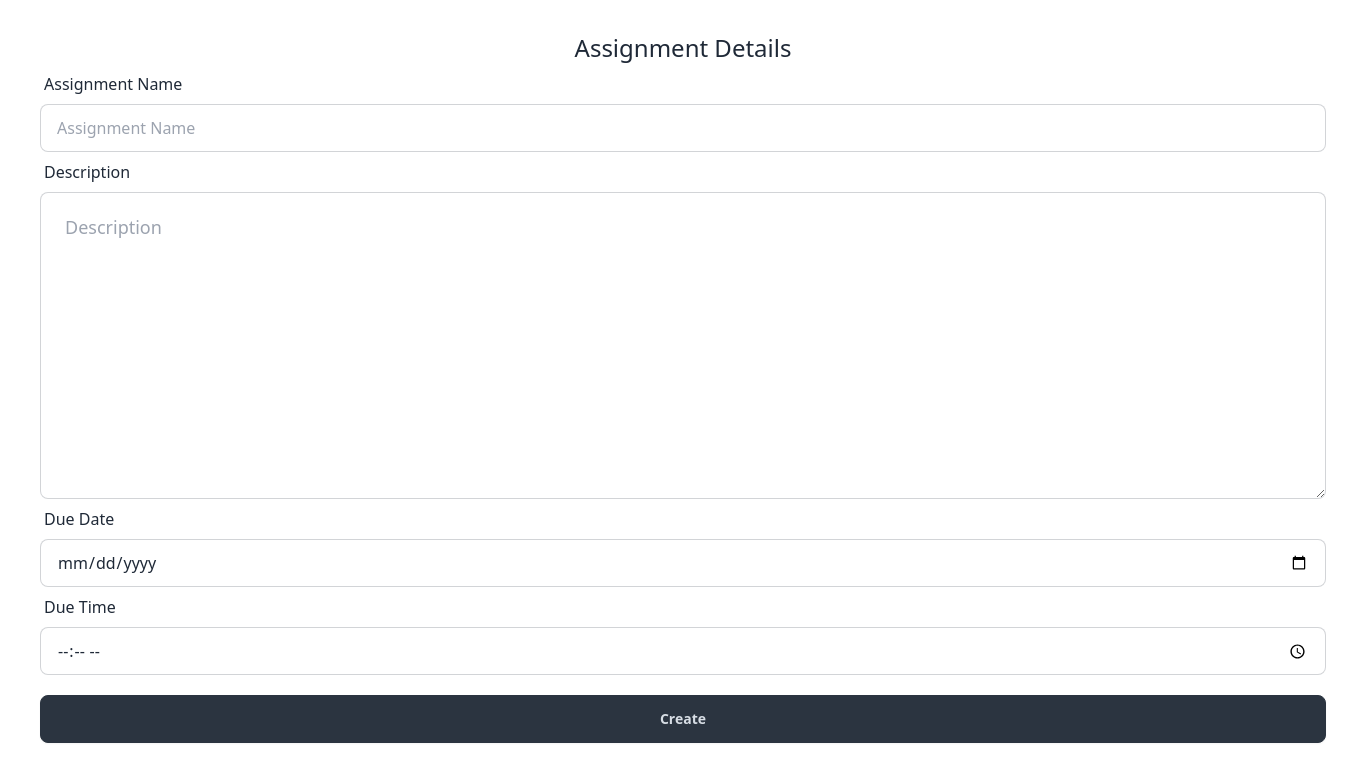
CreateAssignment Component › handles form submission failure and displays error
Type "Test Assignment" into the field labelled "Assignment Name" at (683, 128), box [40,104,1326,152]
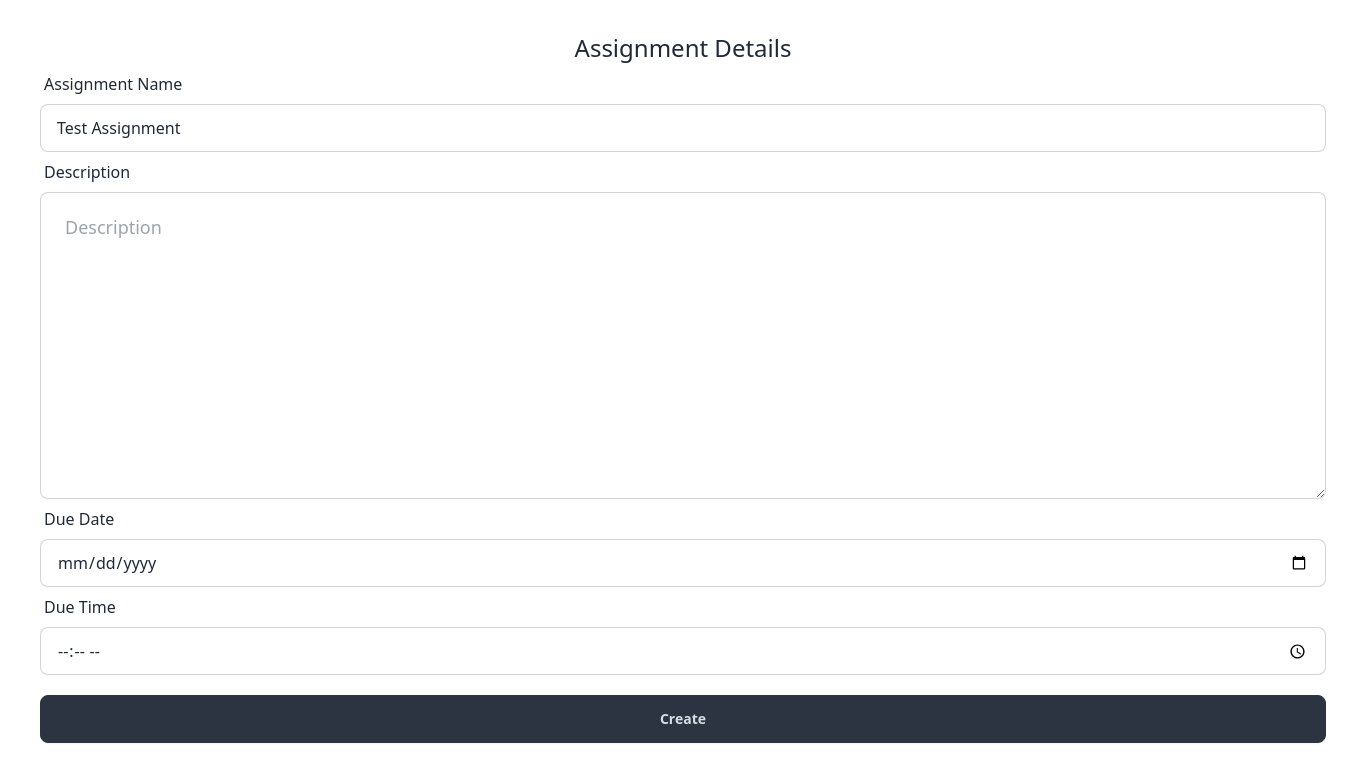
Type "This is a test description." into the text box labelled "Description" at (683, 346), box [40,192,1326,499]
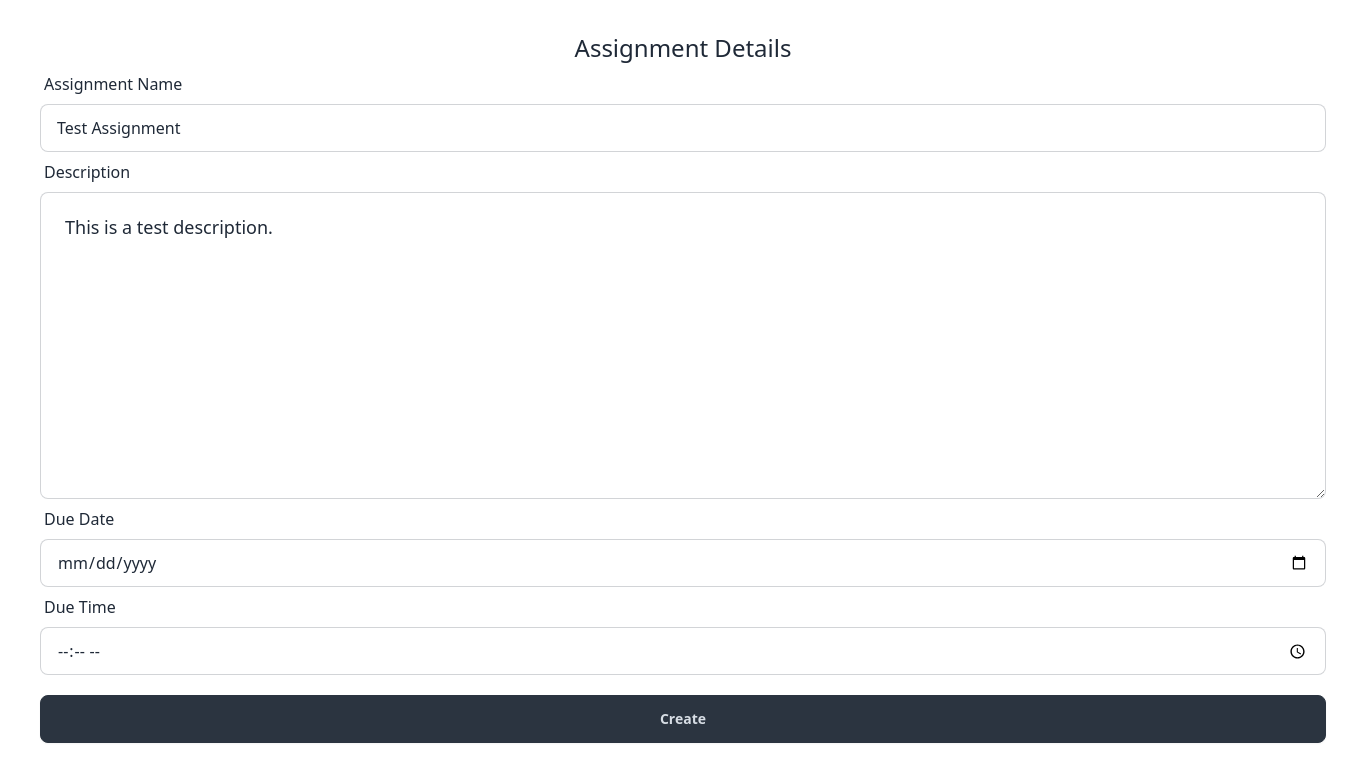
Type "2023-12-31" into the date field labelled "Due Date" at (683, 563), box [40,539,1326,587]
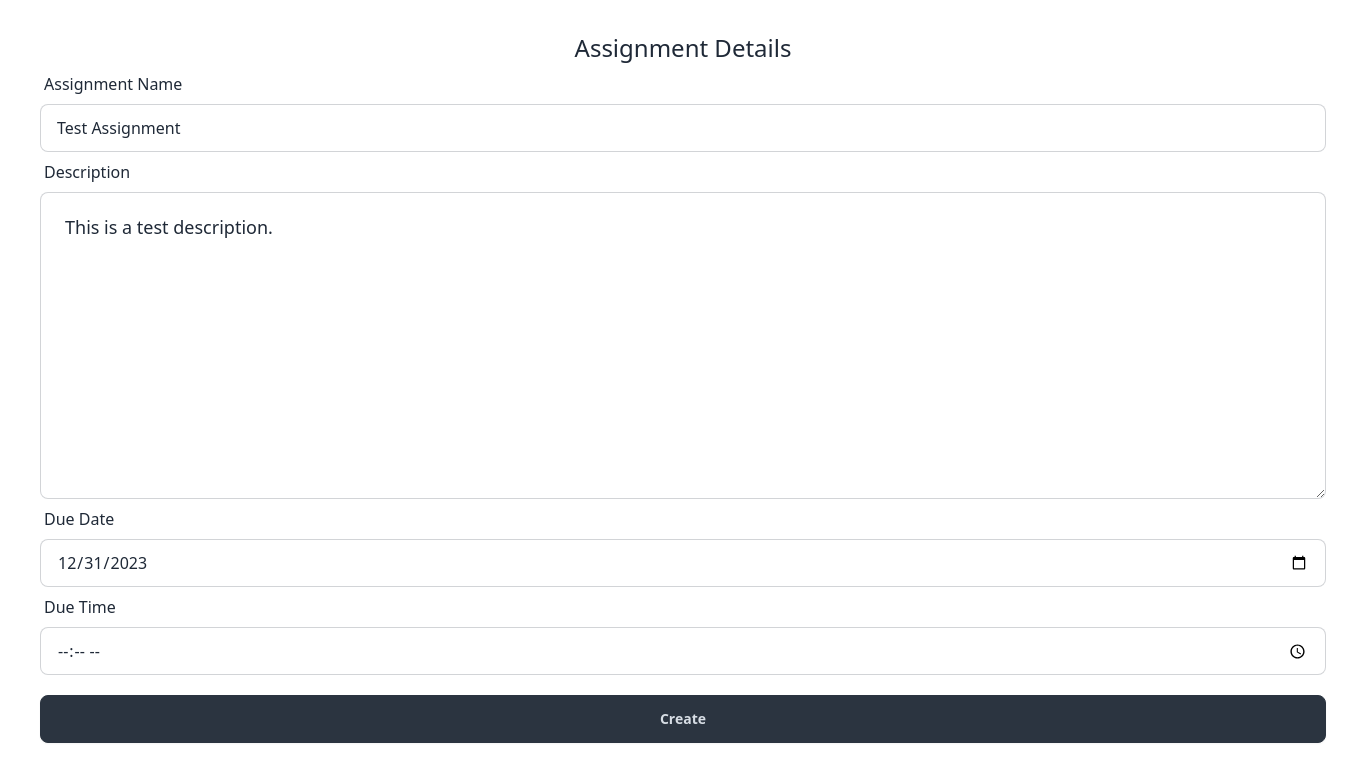
Type "23:59" into the time field labelled "Due Time" at (683, 651), box [40,627,1326,675]
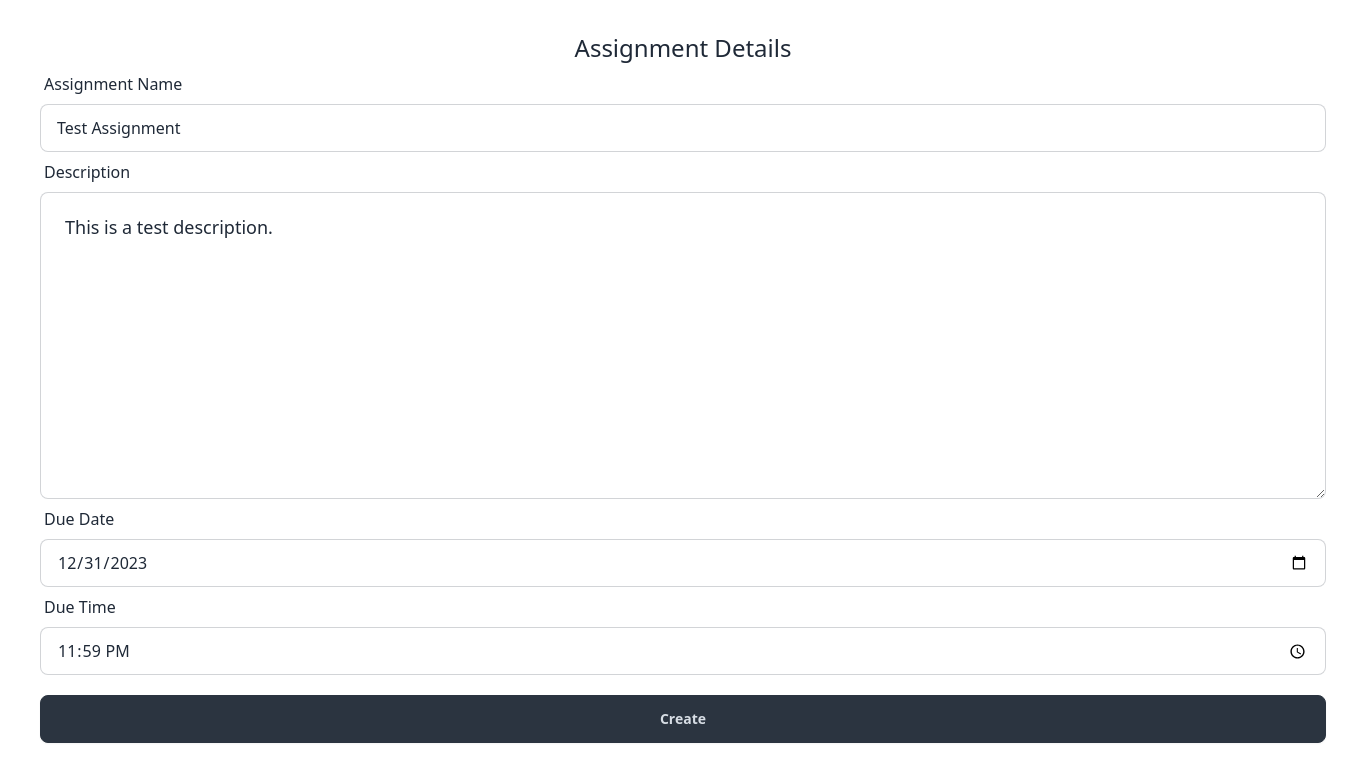
Submit the form from the button "Create", box [40,695,1326,743]
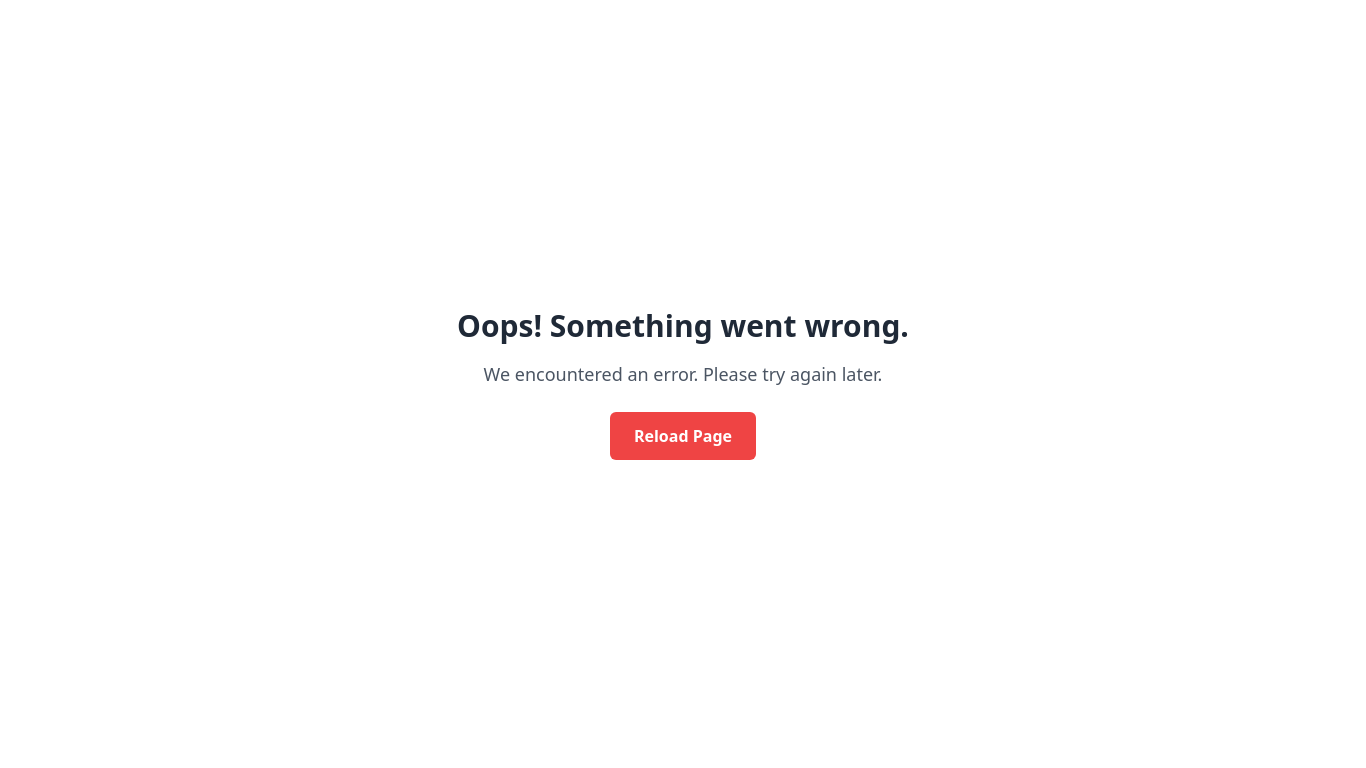
Check: the message is shown, box [457,305,909,460]
Check: the heading "Oops! Something went wrong." is shown, box [457,308,909,344]
